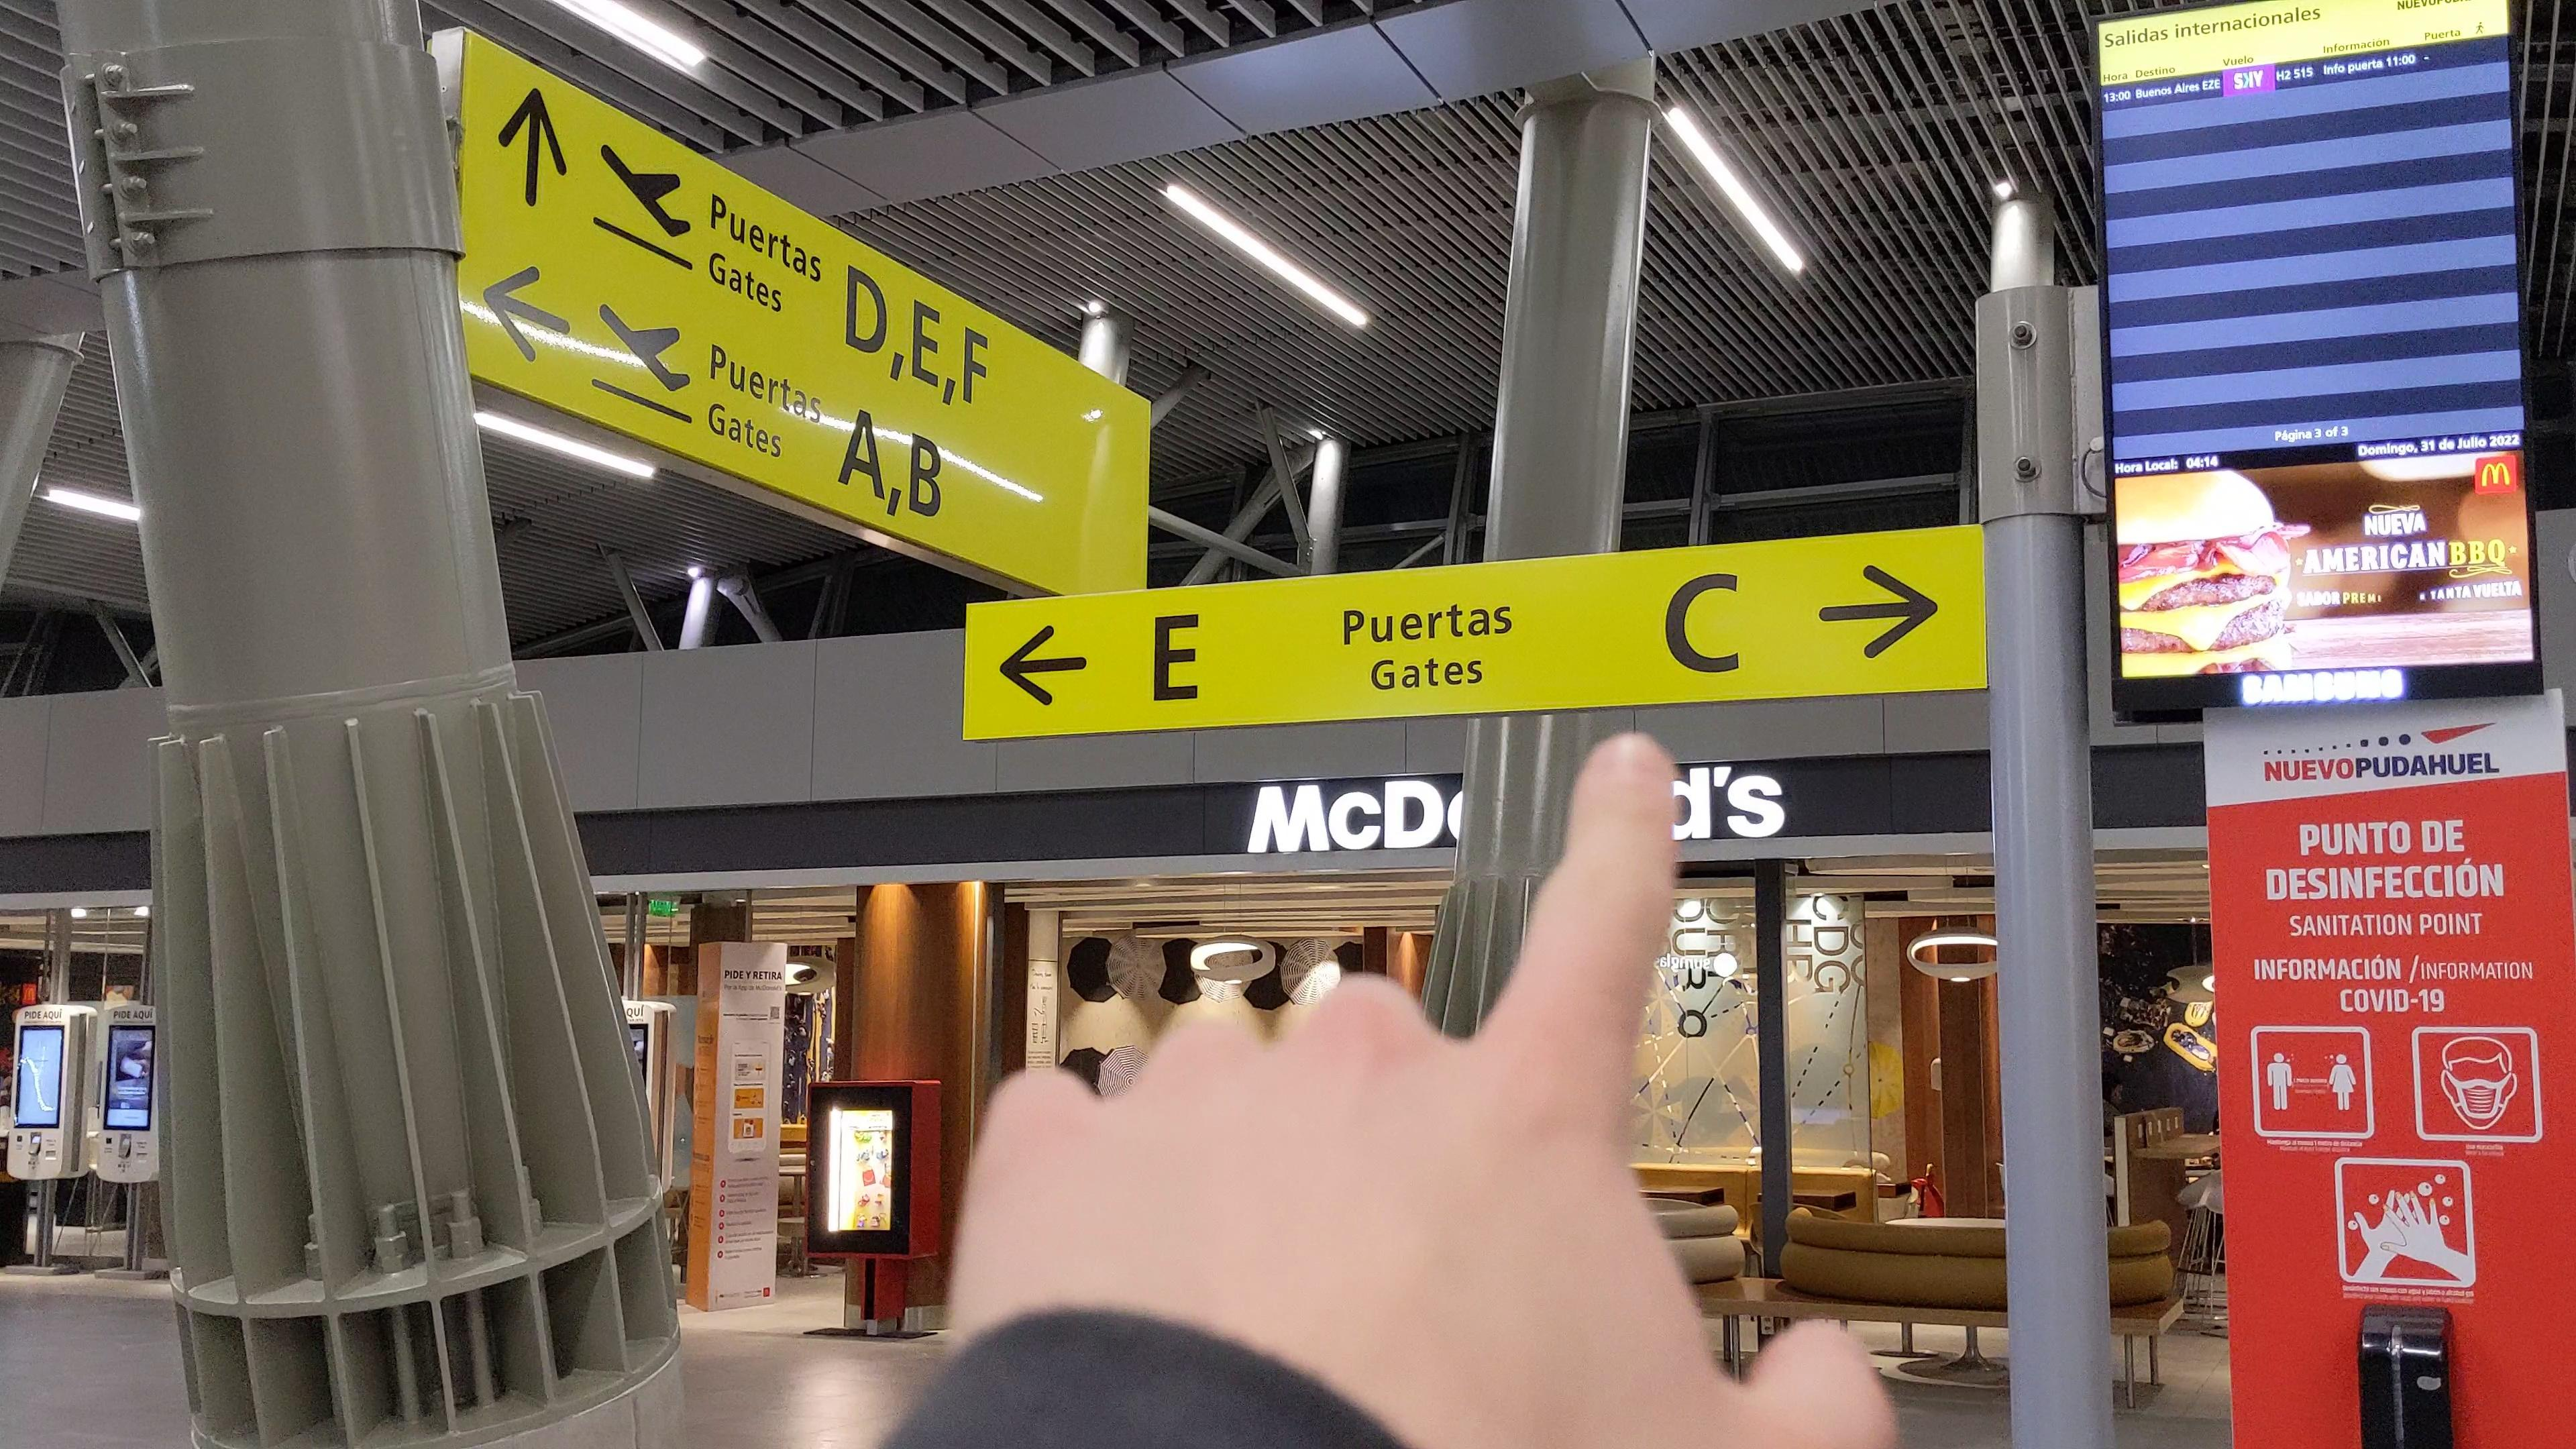airplane symbol: (591, 136, 699, 241), (596, 295, 697, 398)
thin left arrow: (474, 258, 584, 366), (998, 621, 1092, 713)
thin right arrow: (1815, 561, 1944, 667)
thin up arrow: (492, 76, 570, 216)
